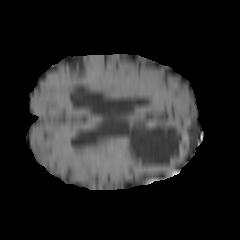glioma: (60, 70, 189, 171)
